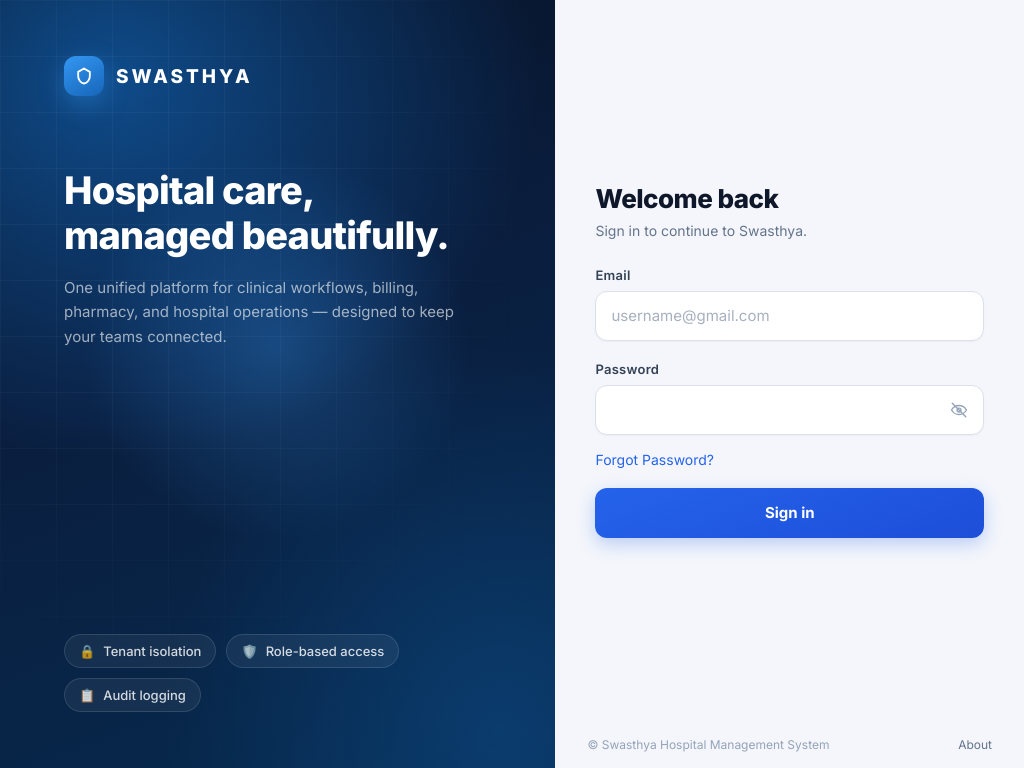
it: LoginPage › shows validation error when submitting empty password
This screenshot has width=1024, height=768.
Step 1. Click the button "Sign in" → (790, 512), box [595,488,984,538]
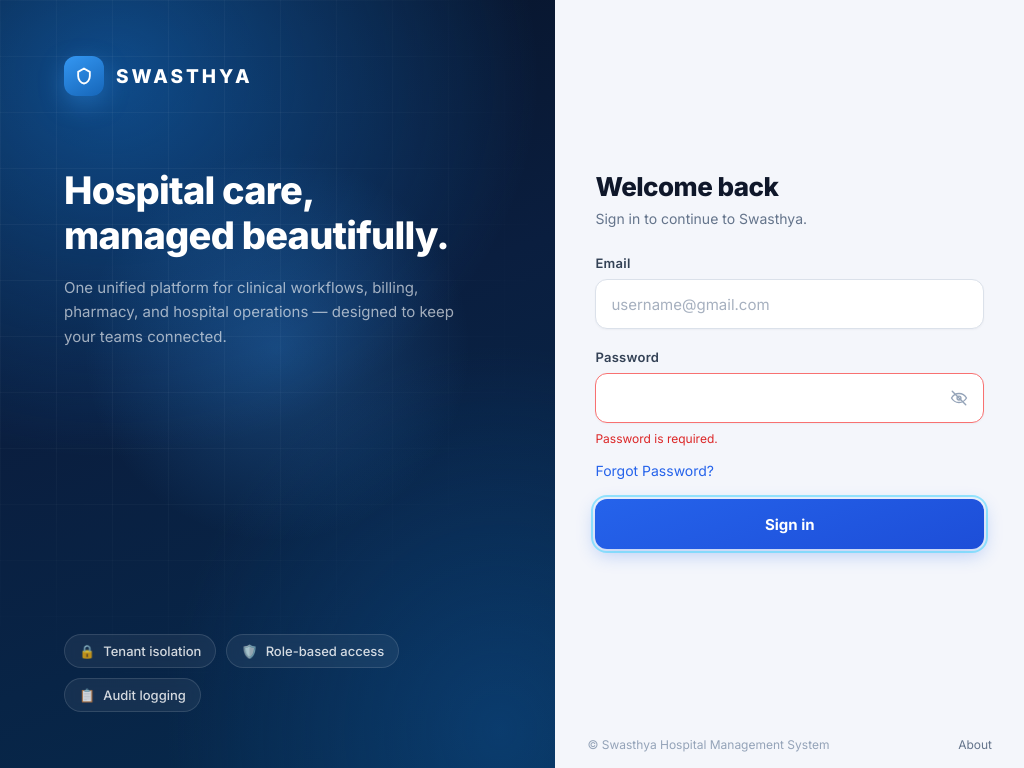
Result: the text "Password is required." is shown at [595,431,718,446]
